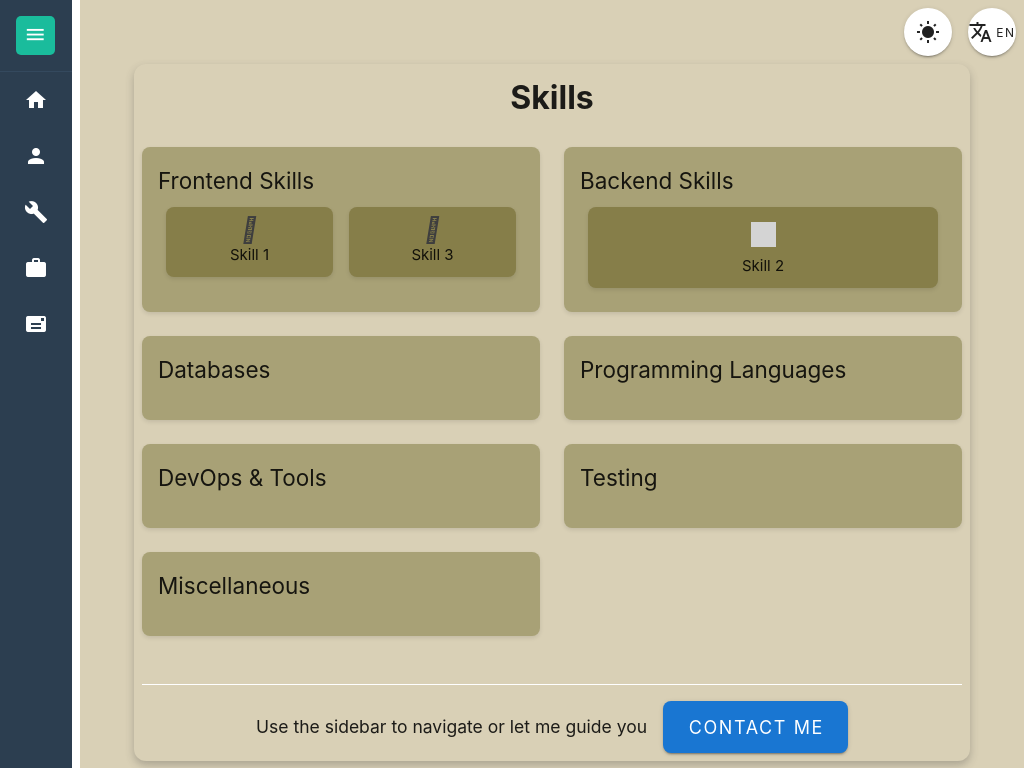
Test: Skills Page › should navigate to the Projects page when the navigation button is clicked
Click the button "Contact Me" at (756, 727), box [663, 701, 848, 753]
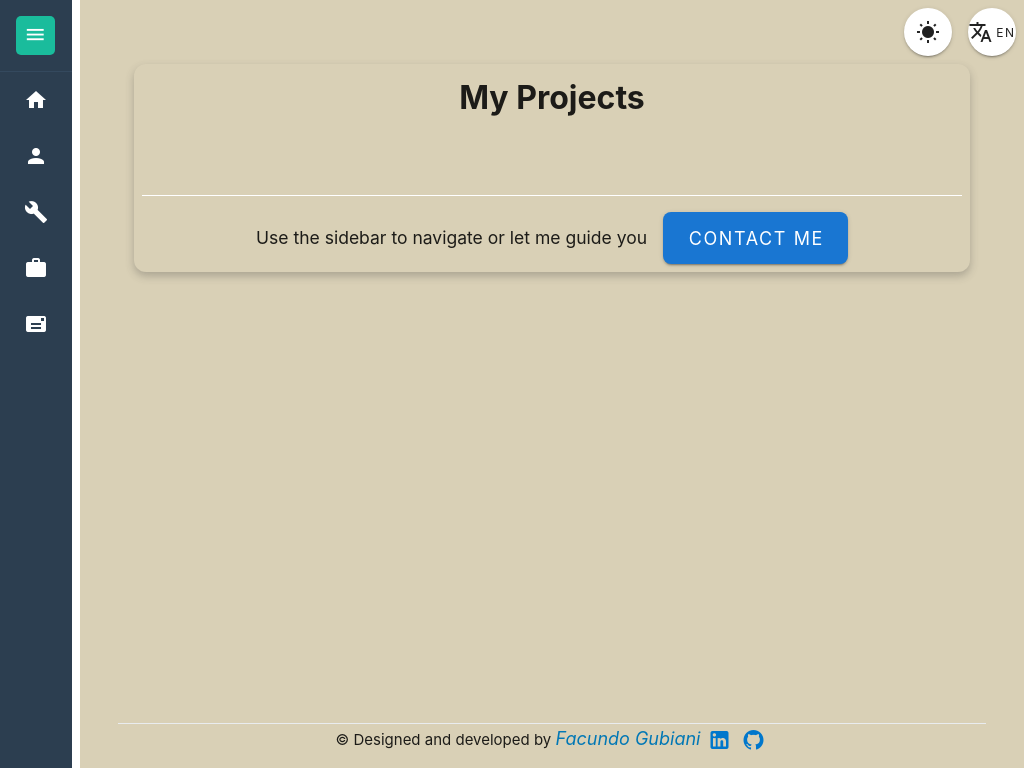
Check: the element that starts with "My Projects" is shown, box [134, 64, 970, 272]
